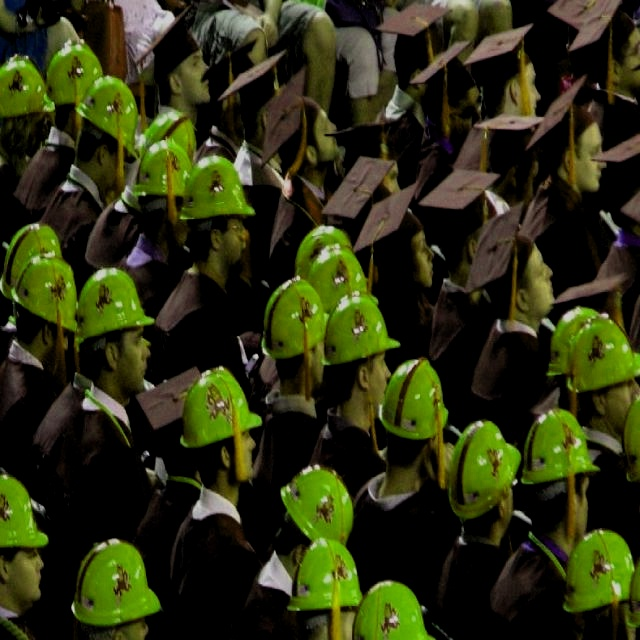Con_Casco: (181, 370, 258, 498), (379, 359, 448, 484)
